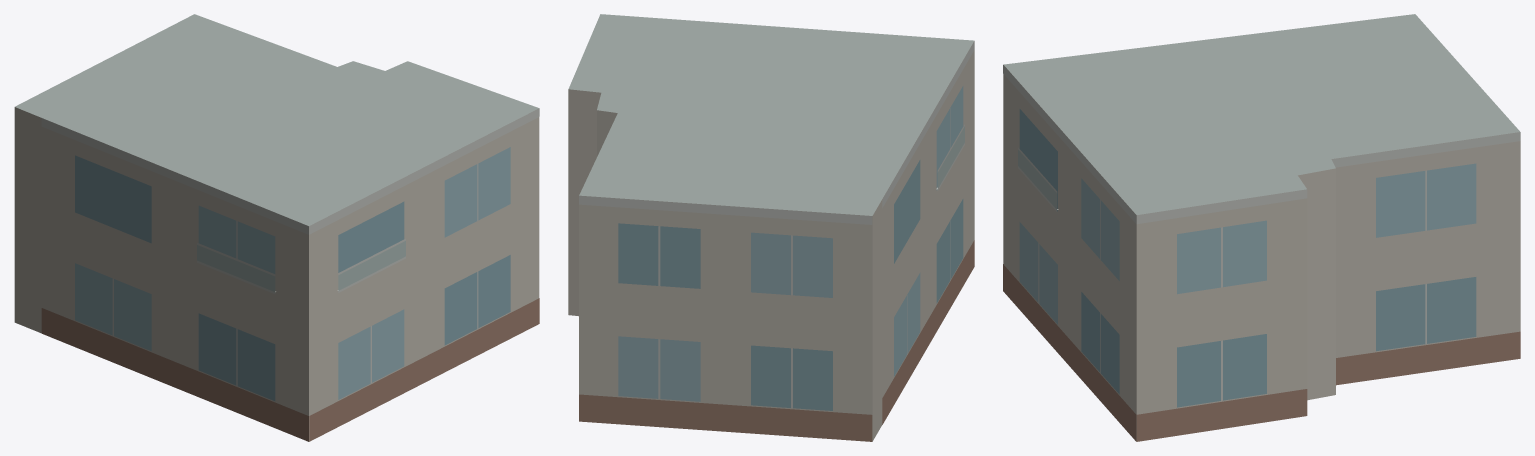
The model's file is survey-upis-32500693.glb.
3 views of the same model, side by side, from view 1: azimuth 30°, elevation 25°; view 2: azimuth 150°, elevation 25°; view 3: azimuth 270°, elevation 25° (orthographic). The views are drawn at different scales.
Visible parts, largest first — view 1: survey-upis-32500693.tmp; view 2: survey-upis-32500693.tmp; view 3: survey-upis-32500693.tmp.
Part boxes in pixels (box(x1,y1,x2,y2)): survey-upis-32500693.tmp: box(14, 14, 539, 441); survey-upis-32500693.tmp: box(568, 14, 974, 441); survey-upis-32500693.tmp: box(1003, 14, 1520, 441).
Bounding box in the file's own units: 11.62 × 6.1 × 12.63.
